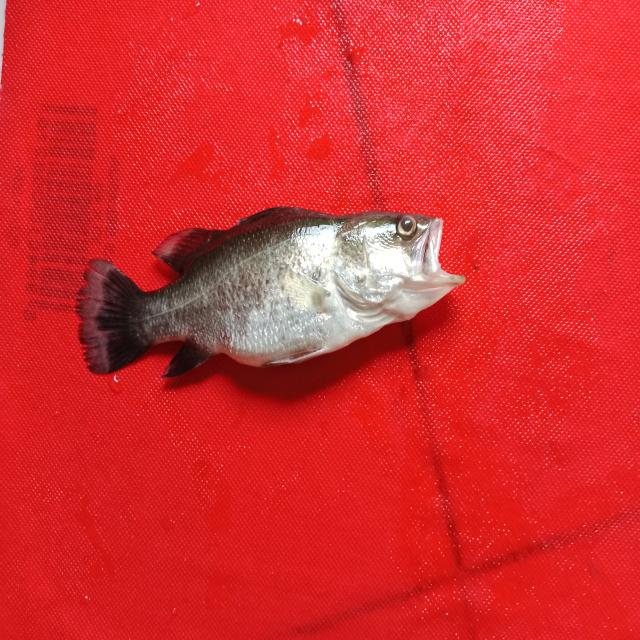ikan: (68, 183, 478, 397)
